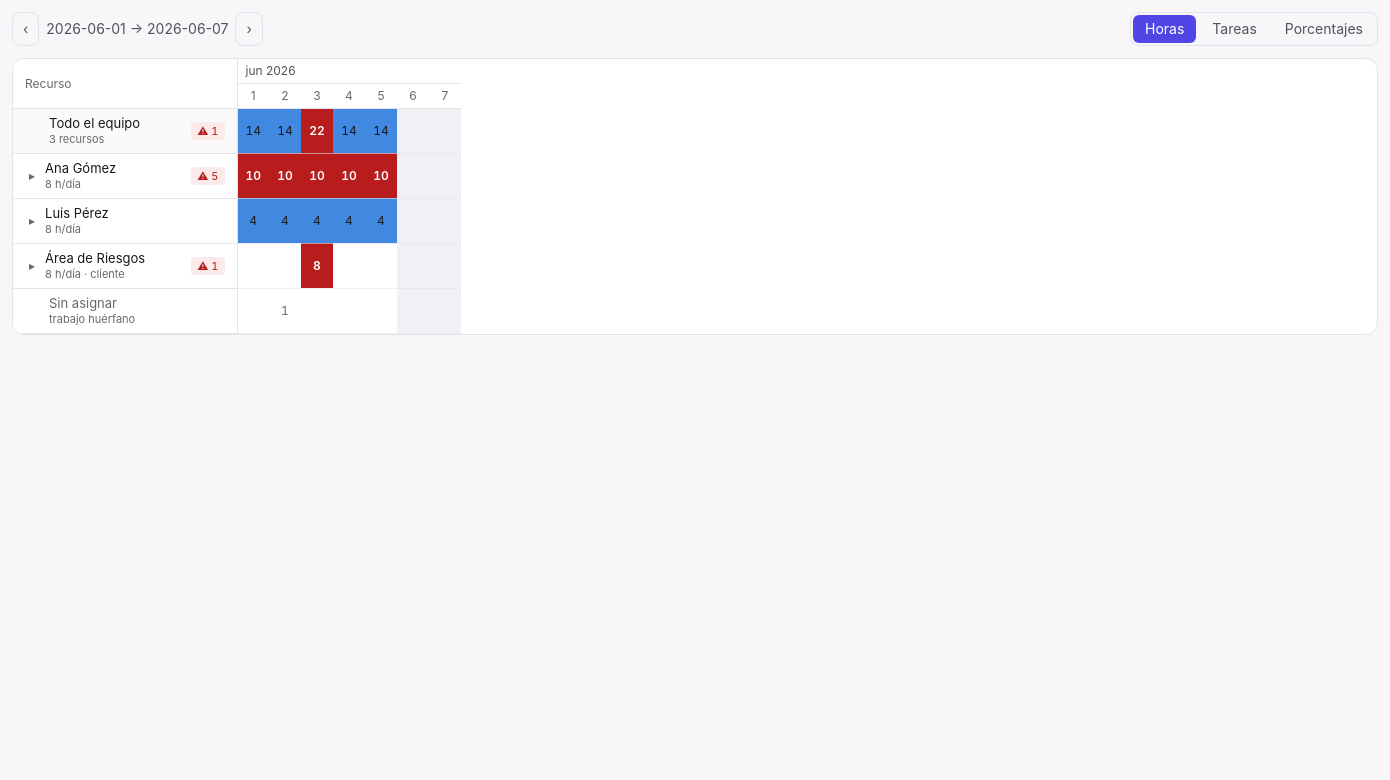
Test: §8.5 · el desglose de una celda › lista las líneas que la componen
Click the cell with test id "celda-ana-2026-06-01": {"x": 253, "y": 176} [237,154,269,198]
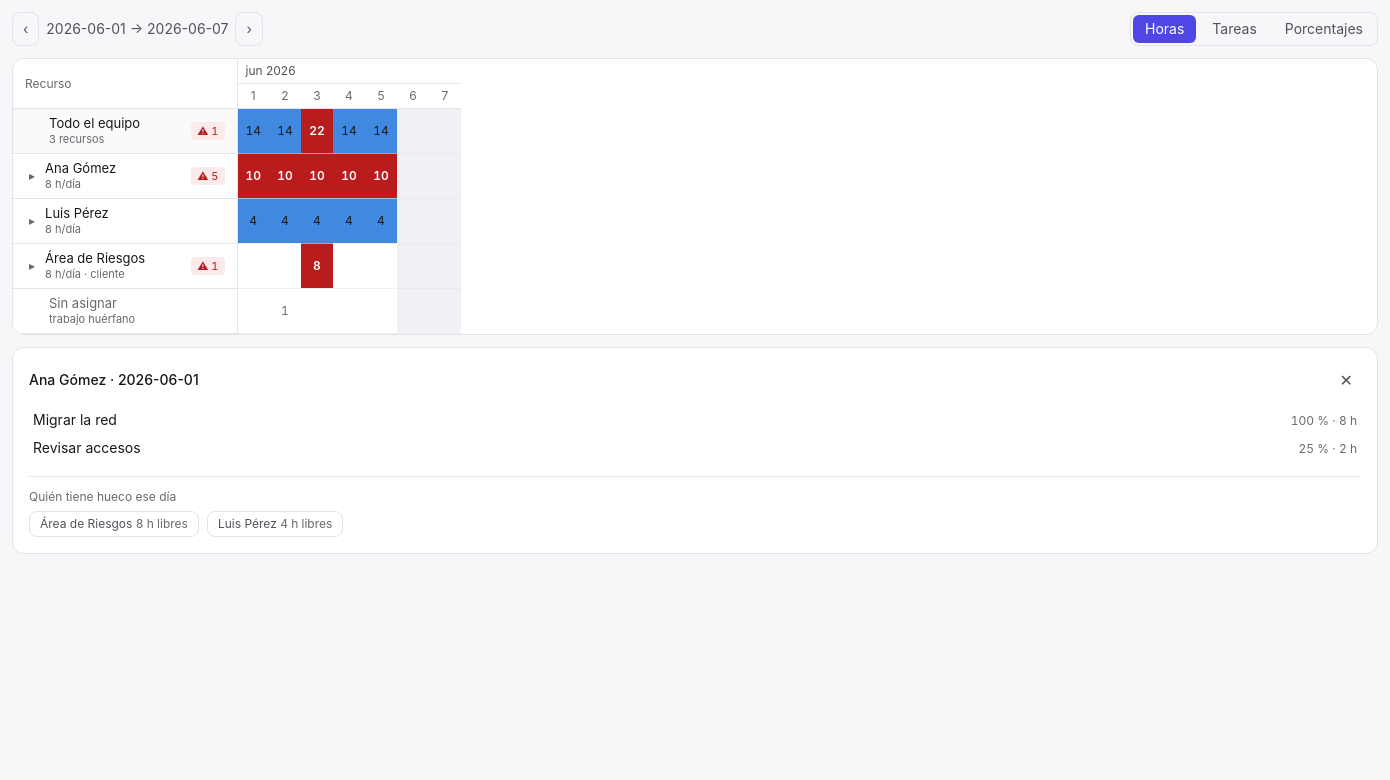
Expected: the text "Migrar la red" is shown, [33,411,117,428]
Expected: the text "Revisar accesos" is shown, [33,439,141,456]
